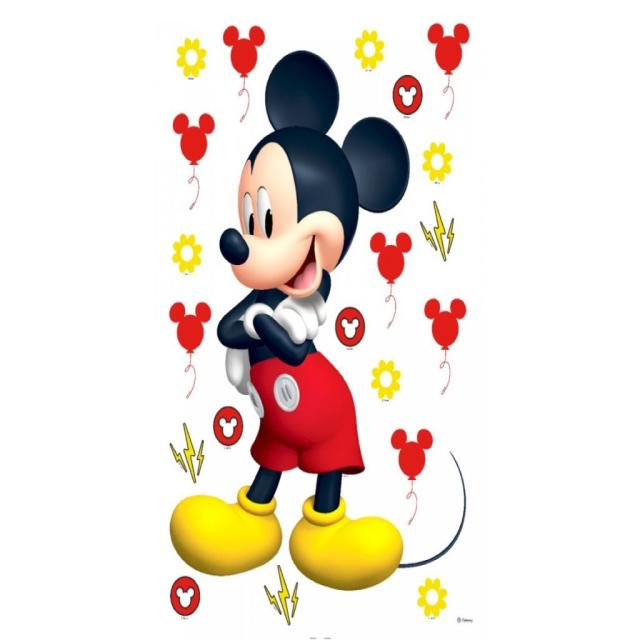mickey: (179, 39, 422, 582)
